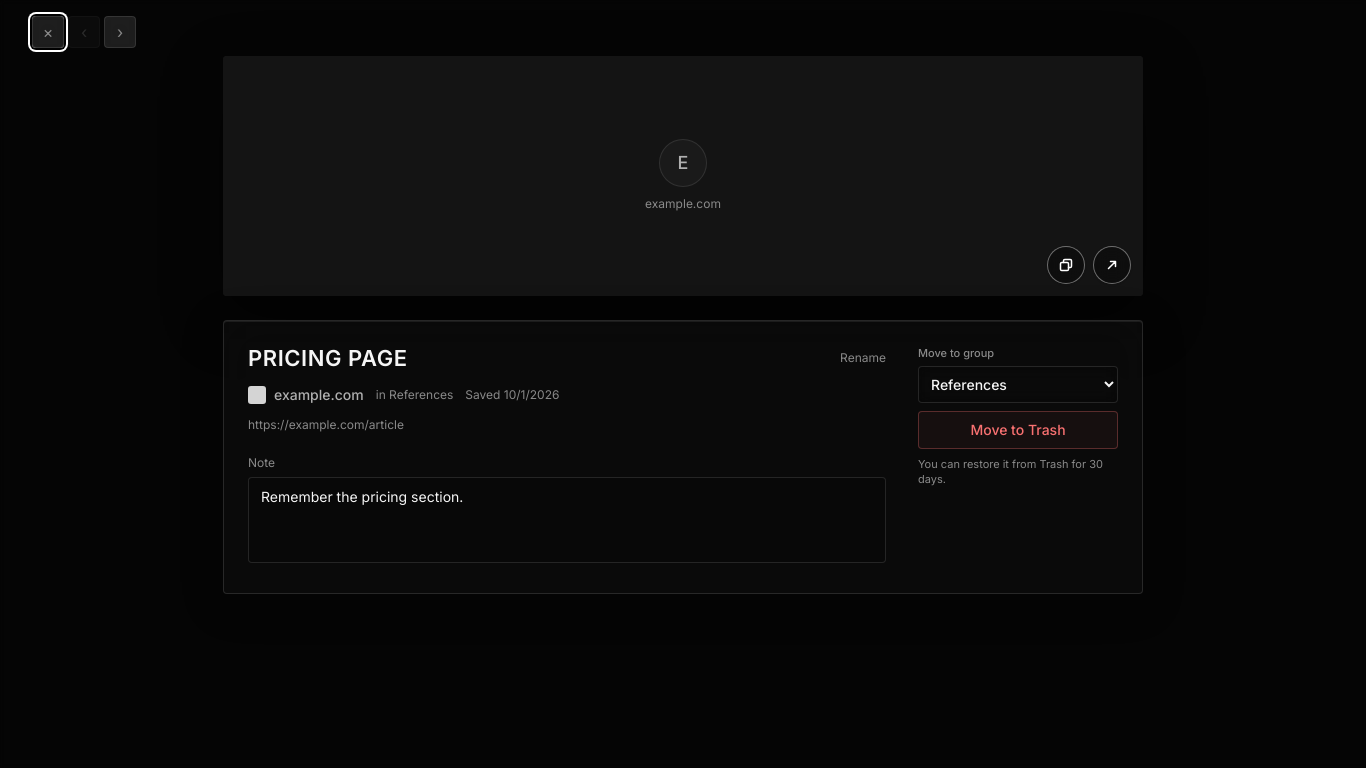
leaving a link keeps the note › explains a dead session and keeps the note
This screenshot has width=1366, height=768.
Replace the text in the text box labelled "Note" with "Do not lose this" at (567, 520), box x1=248 y1=477 x2=886 y2=563
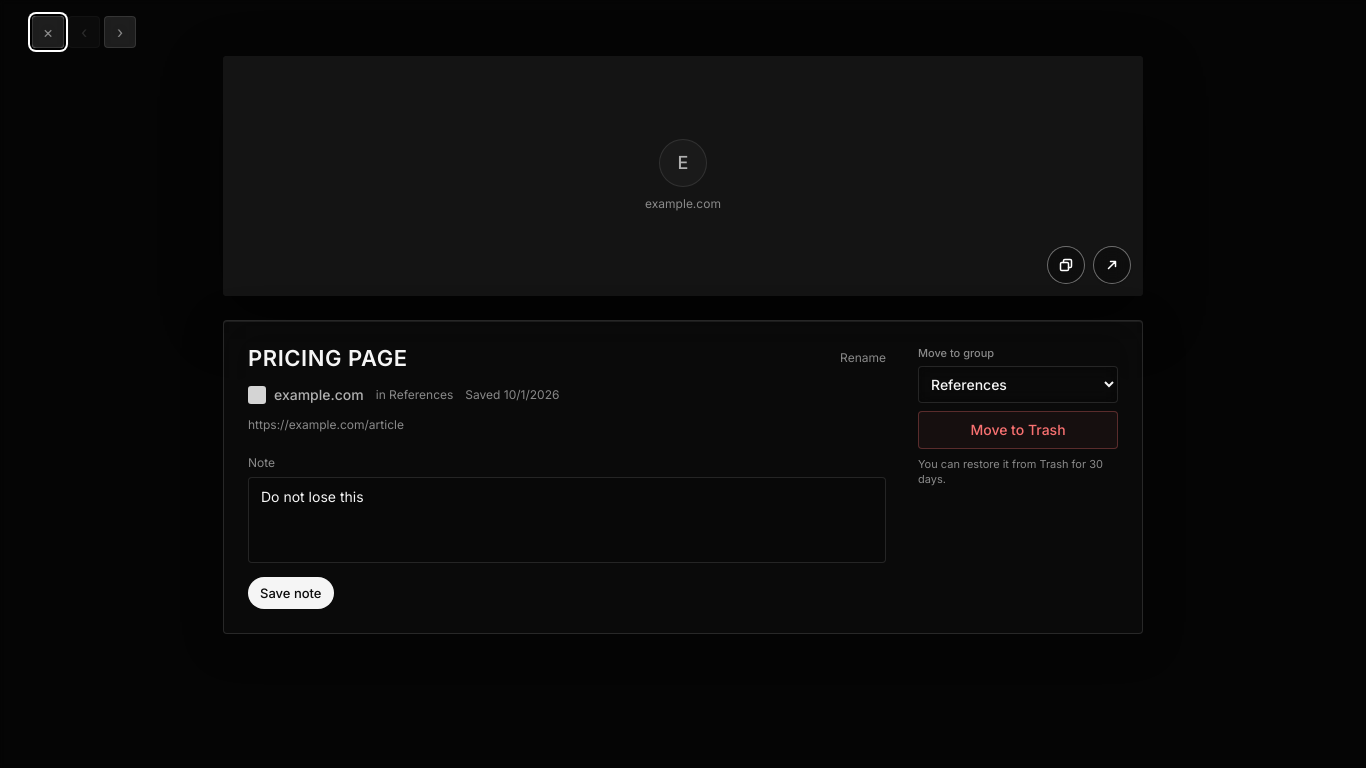
Click the button "Save note" at (291, 593), box x1=248 y1=577 x2=334 y2=609
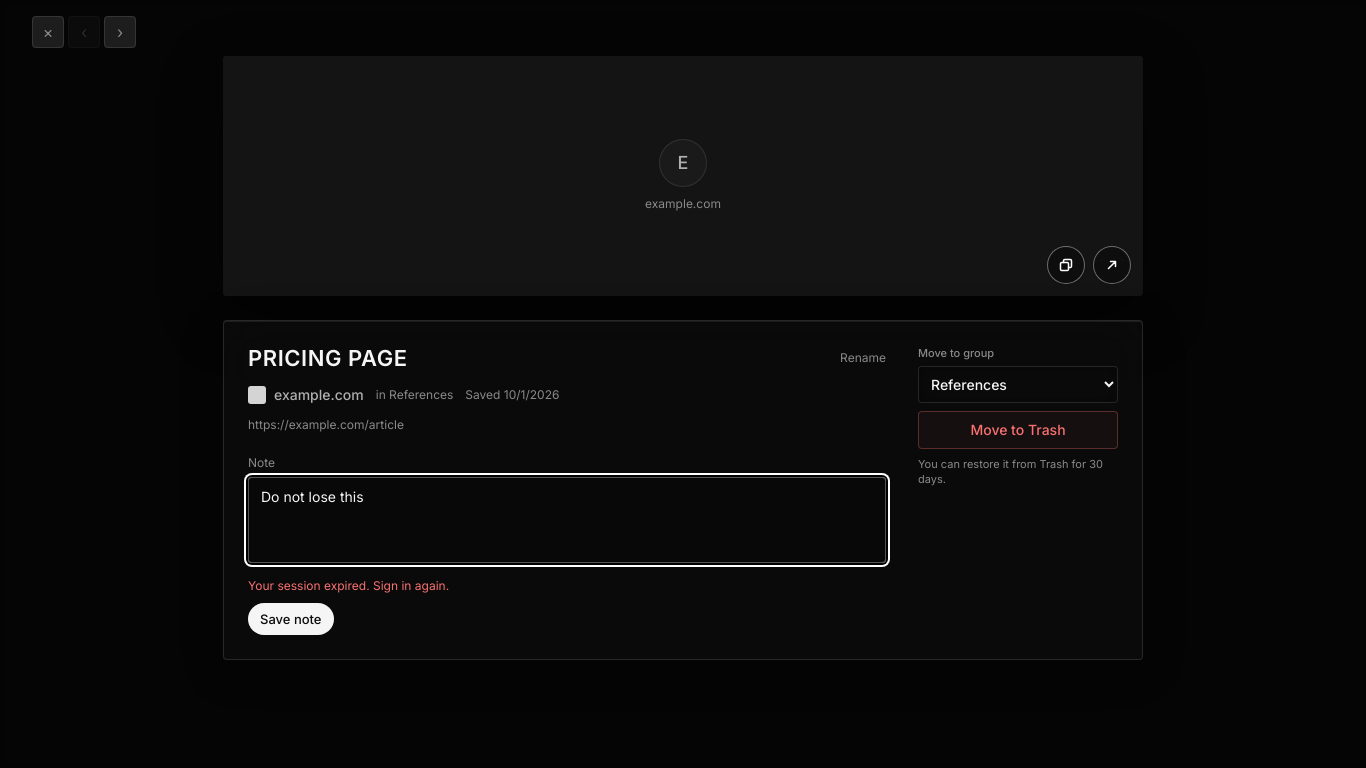
Check: the message shows "session expired", box x1=248 y1=578 x2=449 y2=593
